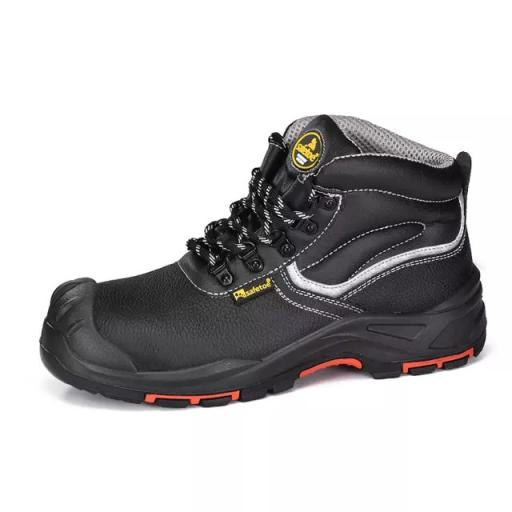safety_boots: (36, 124, 496, 410)
